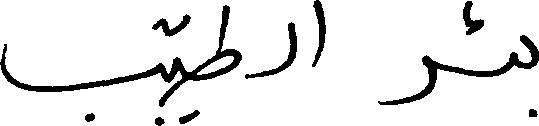X: (0, 13, 163, 125), (193, 0, 240, 123), (463, 0, 520, 81), (242, 17, 296, 83), (380, 50, 435, 109), (165, 14, 182, 125), (522, 30, 538, 121), (314, 0, 325, 71)
